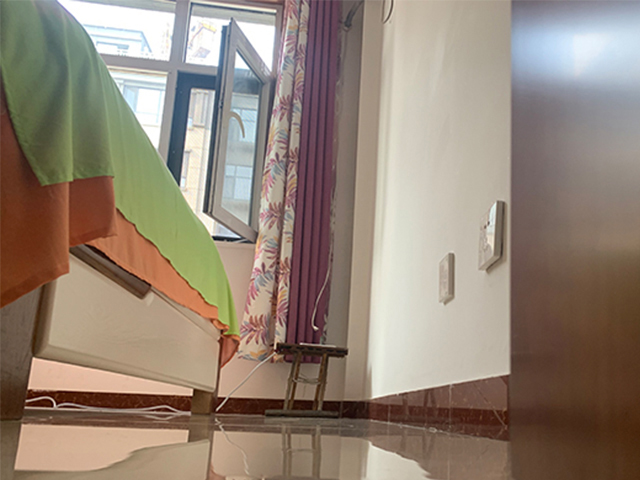bed: (1, 1, 239, 422)
curtain: (248, 1, 346, 370)
stool: (264, 341, 347, 417)
wire: (23, 349, 273, 417)
